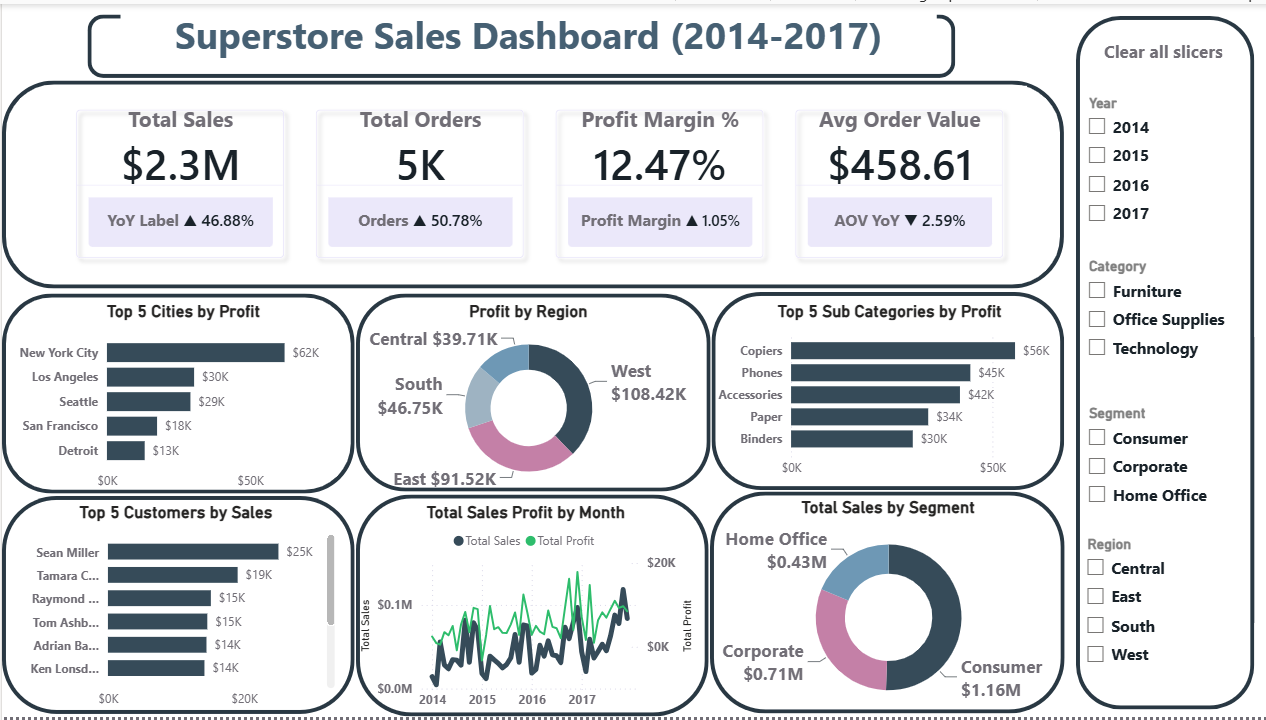

This screenshot's page, from the dashboard's own definition file:
{"tool":"powerbi","page":{"name":"Dashboard","canvas":[1280,720],"ordinal":0},"visuals":[{"type":"shape","box":[0,76,1072,210],"z":1000,"group":"g1"},{"type":"group","id":"g1","title":"Background","box":[0,10,1264,708],"z":1500},{"type":"shape","box":[0,292,356,202],"z":2000,"group":"g1"},{"type":"barChart","title":"Top 5 Cities by Profit ","fields":{"Y":["Sum(superstore.profit)"],"Category":["superstore.city"]},"box":[10.6,299.8,345.2,199.9],"z":2000},{"type":"donutChart","fields":{"Y":["Sum(superstore.profit)"],"Category":["superstore.region"]},"box":[360,300,342,196],"z":3000},{"type":"shape","box":[358,494,356,224],"z":3000,"group":"g1"},{"type":"shape","box":[0,496,356,220],"z":4000,"group":"g1"},{"type":"barChart","title":"Top 5 Customers by Sales ","fields":{"Category":["superstore.customer_name"],"Y":["Sum(superstore.sales)"]},"box":[10.6,502.7,330.1,216.5],"z":4000},{"type":"shape","box":[716,290,356,200],"z":5000,"group":"g1"},{"type":"lineChart","title":"Total Sales Profit by Month","fields":{"Y":["Sum(superstore.sales)"],"Y2":["Sum(superstore.profit)"],"Category":["Date.Date.Variation.Date Hierarchy.Year","Date.Date.Variation.Date Hierarchy.Quarter","Date.Date.Variation.Date Hierarchy.Month","Date.Date.Variation.Date Hierarchy.Day"]},"box":[356,502,346,218],"z":5000},{"type":"shape","box":[358,292,358,200],"z":6000,"group":"g1"},{"type":"donutChart","title":"Total Sales by Segment","fields":{"Y":["Sum(superstore.sales)"],"Category":["superstore.segment"]},"box":[714,498,360,222],"z":6000},{"type":"cardVisual","fields":{"Data":["Sum(public superstore.sales)","Count(public superstore.order_id)","superstore.Profit Margin %","superstore.AOV"]},"box":[46,76,996,208],"z":6500,"group":"g1"},{"type":"barChart","title":"Top 5 Sub Categories by Profit","fields":{"Category":["superstore.sub_category"],"Y":["Sum(superstore.profit)"]},"box":[716,300,360,186],"z":7000},{"type":"shape","box":[714,492,358,224],"z":7000,"group":"g1"},{"type":"textbox","box":[120,0,824,64],"z":8000},{"type":"shape","box":[1084,12,180,700],"z":8000,"group":"g1"},{"type":"shape","box":[86,10,876,64],"z":9000,"group":"g1"},{"type":"slicer","fields":{"Values":["superstore.category"]},"box":[1084,252,196,146],"z":9000},{"type":"slicer","fields":{"Values":["superstore.segment"]},"box":[1084,400,196,118],"z":10000},{"type":"slicer","fields":{"Values":["Date.Year"]},"box":[1084,86,196,152],"z":11000},{"type":"actionButton","box":[1100,22,146,50],"z":11500},{"type":"slicer","fields":{"Values":["superstore.region"]},"box":[1082,532,198,166],"z":12000}]}

Visuals, with their boxes in screenshot pixels (x1, y1, x2, y2), scaled from the page's 1280x720 canvas onto the 1266x720 screenshot:
shape: [0,76,1060,286]
"Background" group: [0,10,1250,718]
shape: [0,292,352,494]
"Top 5 Cities by Profit " barChart: [10,300,352,500]
donutChart - Sum(superstore.profit) x superstore.region: [356,300,694,496]
shape: [354,494,706,718]
shape: [0,496,352,716]
"Top 5 Customers by Sales " barChart: [10,503,337,719]
shape: [708,290,1060,490]
"Total Sales Profit by Month" lineChart: [352,502,694,719]
shape: [354,292,708,492]
"Total Sales by Segment" donutChart: [706,498,1062,719]
cardVisual - Sum(public superstore.sales) x Count(public superstore.order_id): [45,76,1031,284]
"Top 5 Sub Categories by Profit" barChart: [708,300,1064,486]
shape: [706,492,1060,716]
textbox: [119,0,934,64]
shape: [1072,12,1250,712]
shape: [85,10,951,74]
slicer - superstore.category: [1072,252,1265,398]
slicer - superstore.segment: [1072,400,1265,518]
slicer - Date.Year: [1072,86,1265,238]
actionButton: [1088,22,1232,72]
slicer - superstore.region: [1070,532,1265,698]
